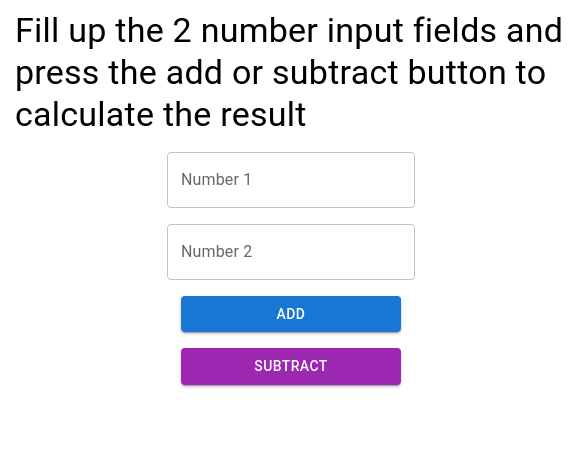
it: Calculator Application › should add two numbers
The width and height of the screenshot is (578, 450).
Type "5" into the number field labelled "Number 1" at [291, 180], box x1=167 y1=152 x2=415 y2=208
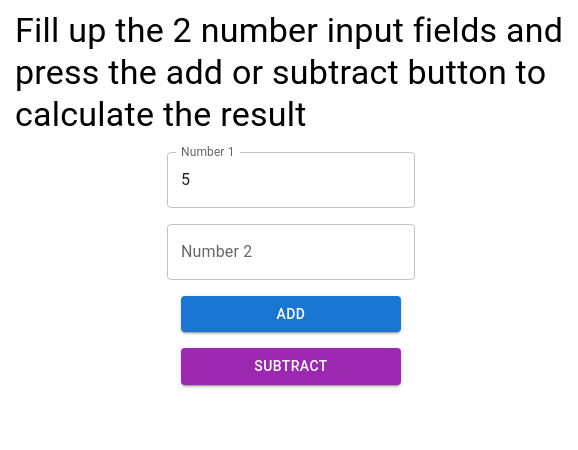
Type "3" into the number field labelled "Number 2" at [291, 252], box x1=167 y1=224 x2=415 y2=280
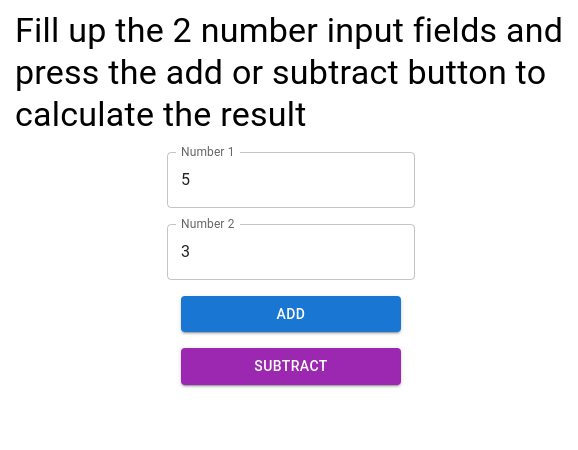
Click the button "Add" at [291, 314], box x1=181 y1=296 x2=401 y2=332
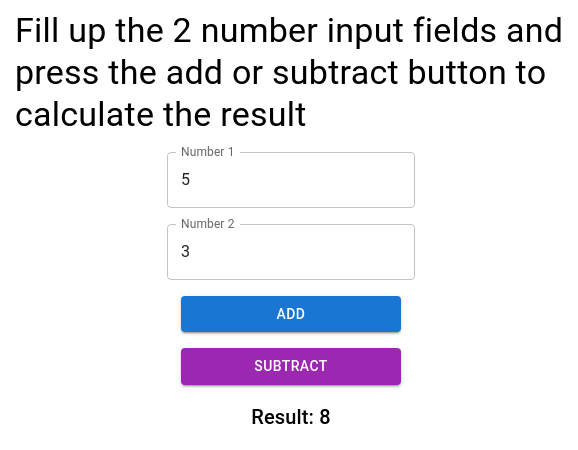
expect the heading "Result: 8" is shown: met, box x1=251 y1=401 x2=331 y2=433
